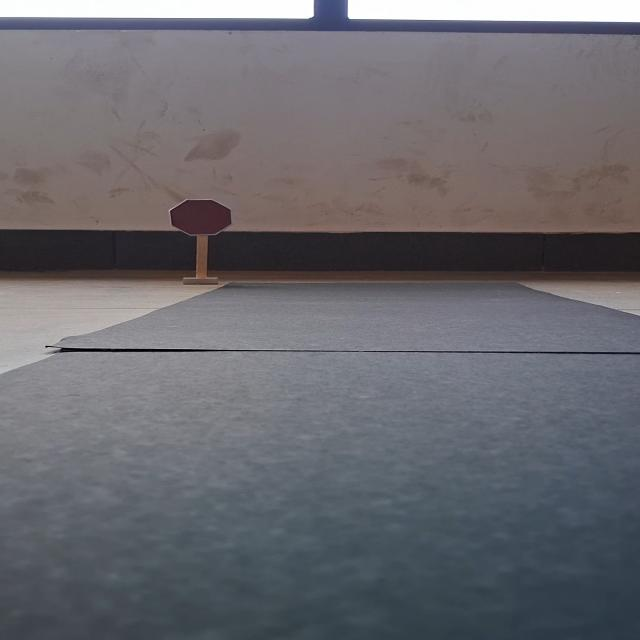Stop: (168, 199, 234, 236)
